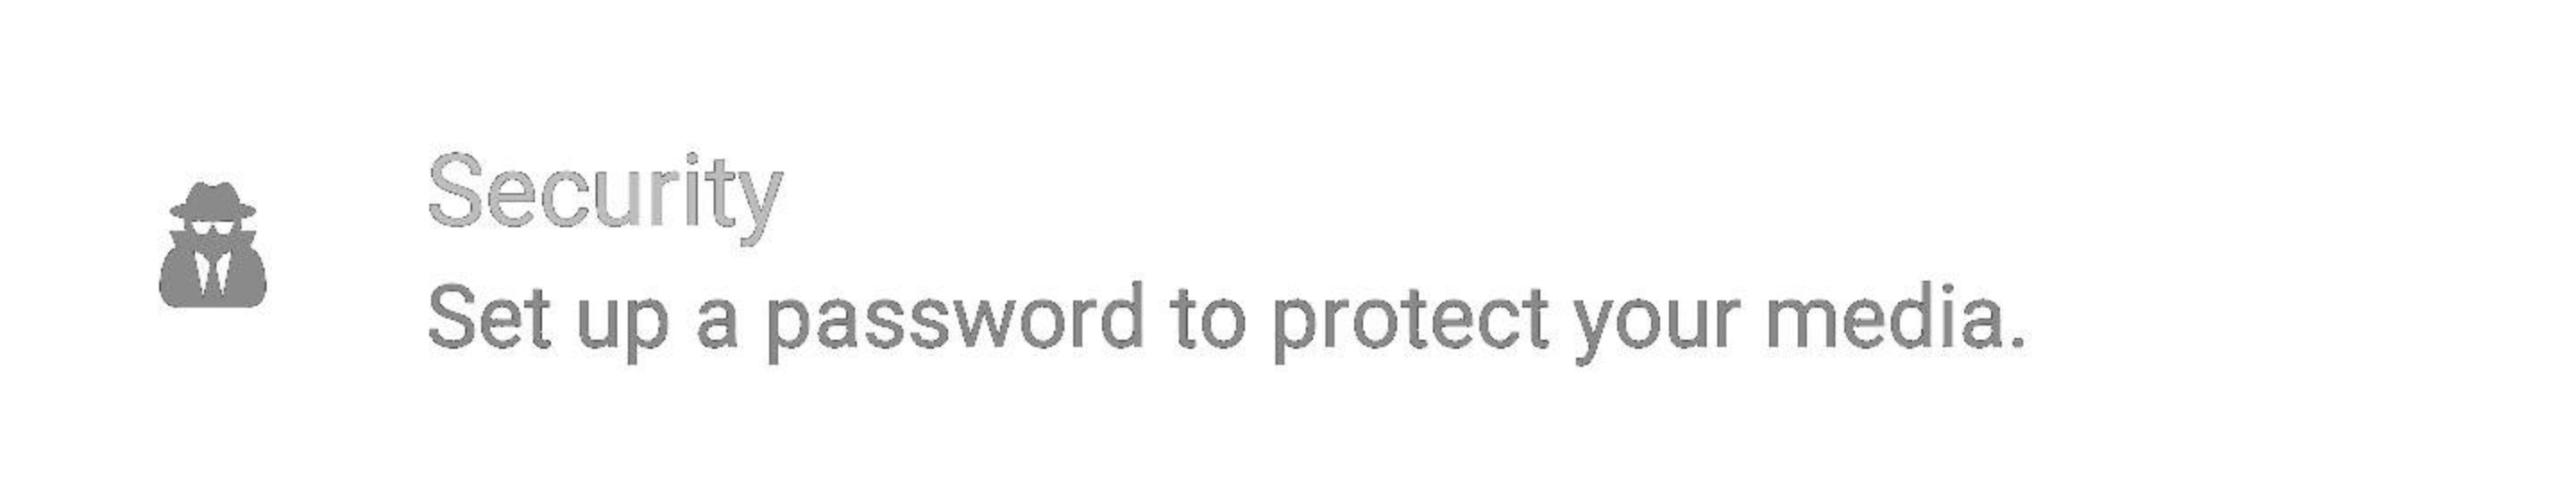CheckedTextView: (2, 2, 2574, 488)
